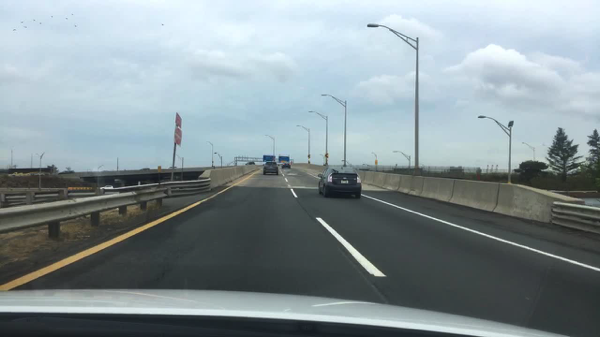bus: (30, 171, 45, 177)
car: (317, 165, 362, 200), (263, 162, 279, 176), (58, 169, 74, 175), (100, 184, 113, 190), (280, 162, 291, 169), (244, 162, 257, 165), (139, 168, 150, 171), (168, 167, 178, 169)
traffic sign: (174, 128, 181, 146), (176, 113, 182, 129), (263, 155, 275, 162), (279, 156, 289, 162), (158, 166, 162, 173), (325, 153, 329, 158), (308, 154, 311, 158), (375, 160, 377, 165)
truck: (12, 172, 23, 176)
